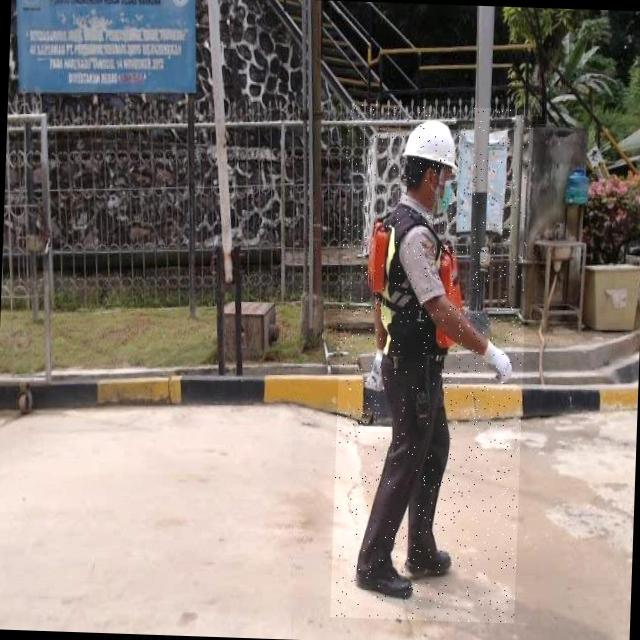Helmet: (402, 114, 463, 176)
Human: (330, 103, 532, 623)
Safety Boot: (351, 560, 414, 610), (404, 546, 454, 582)
Safety Vest: (365, 206, 470, 353)
